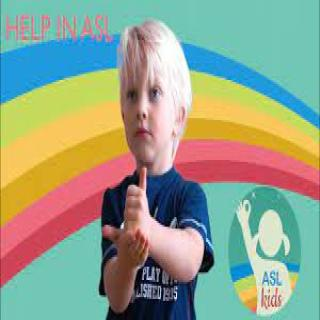Help: (98, 160, 162, 267)
